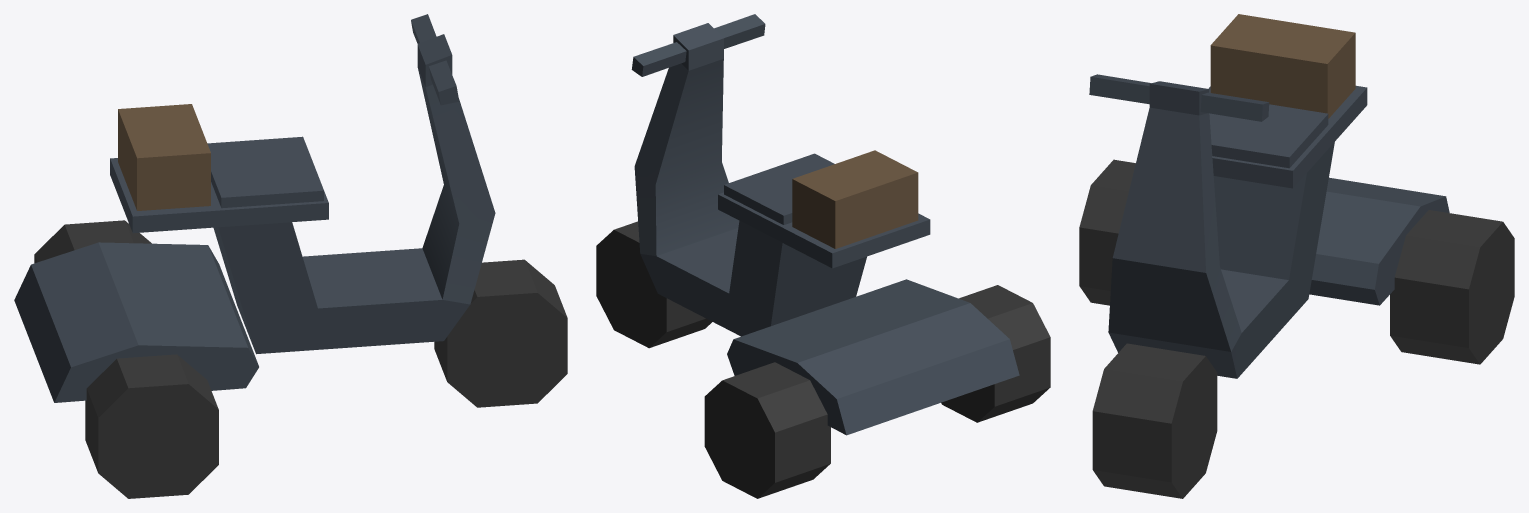
The model's file is bikeTESTER.fbx.
3 renders of one model, left to right at view 1: azimuth 30°, elevation 25°; view 2: azimuth 150°, elevation 25°; view 3: azimuth 270°, elevation 25°, orthographic. The views are drawn at different scales.
Visible parts, largest first — view 1: BikeONEbody, BikeONEBackplate, BikeONERightWheel, BikeONEFrontWheel, BikeONEBox, BikeONERLeftWheel; view 2: BikeONEbody, BikeONEBackplate, BikeONERLeftWheel, BikeONEBox, BikeONEFrontWheel, BikeONERightWheel; view 3: BikeONEbody, BikeONEFrontWheel, BikeONERLeftWheel, BikeONEBox, BikeONEBackplate, BikeONERightWheel.
Boxes of the visible parts, x1=… form: BikeONEbody: x1=110, y1=14, x2=495, y2=354; BikeONEBackplate: x1=14, y1=242, x2=258, y2=402; BikeONERightWheel: x1=85, y1=354, x2=218, y2=498; BikeONEFrontWheel: x1=434, y1=259, x2=567, y2=407; BikeONEBox: x1=118, y1=104, x2=210, y2=210; BikeONERLeftWheel: x1=34, y1=220, x2=151, y2=263; BikeONEbody: x1=631, y1=14, x2=930, y2=336; BikeONEBackplate: x1=727, y1=279, x2=1019, y2=435; BikeONERLeftWheel: x1=704, y1=362, x2=830, y2=498; BikeONEBox: x1=792, y1=150, x2=918, y2=248; BikeONEFrontWheel: x1=596, y1=221, x2=712, y2=348; BikeONERightWheel: x1=941, y1=285, x2=1050, y2=422; BikeONEbody: x1=1089, y1=74, x2=1367, y2=378; BikeONEFrontWheel: x1=1092, y1=343, x2=1217, y2=498; BikeONERLeftWheel: x1=1390, y1=210, x2=1514, y2=364; BikeONEBox: x1=1210, y1=14, x2=1355, y2=118; BikeONEBackplate: x1=1309, y1=177, x2=1449, y2=305; BikeONERightWheel: x1=1079, y1=159, x2=1135, y2=305.
Size of the model in its own units: 7.45 by 5.13 by 5.47.
